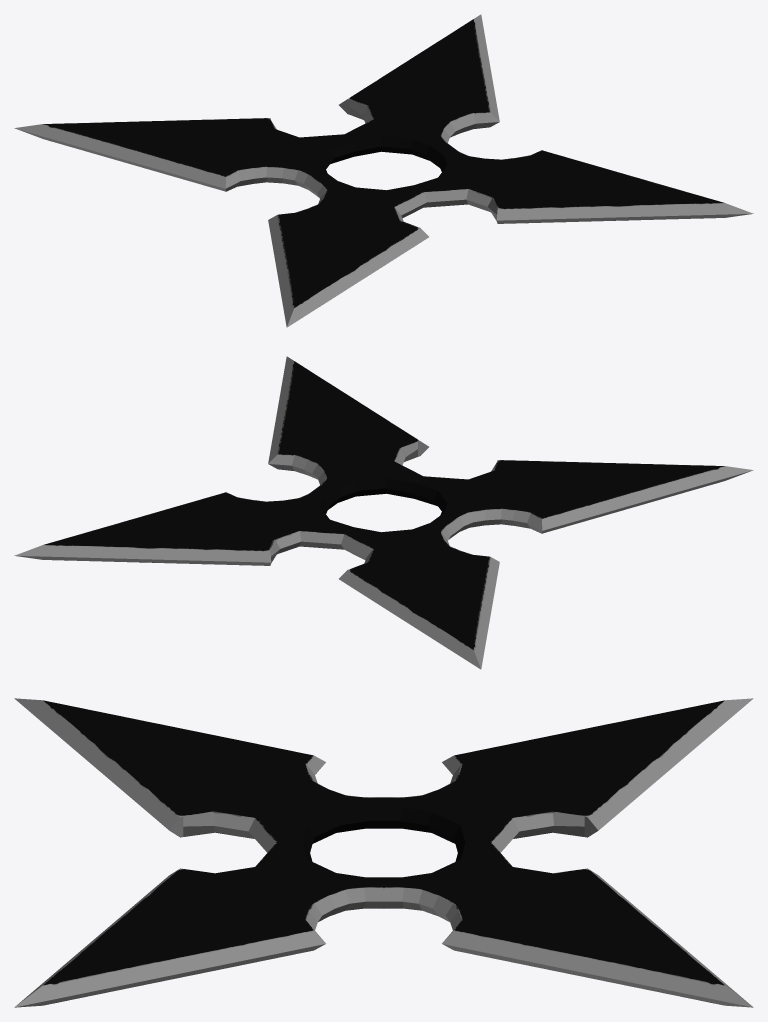
The model's file is Shuriken.fbx.
3 renders of one model, top to bottom at view 1: azimuth 30°, elevation 25°; view 2: azimuth 150°, elevation 25°; view 3: azimuth 270°, elevation 25°, orthographic. The views are drawn at different scales.
Parts seen in each view (by area): view 1: Cube; view 2: Cube; view 3: Cube.
Part boxes in pixels (x1,y1,x2,y2): Cube: [14, 14, 753, 327]; Cube: [14, 356, 753, 669]; Cube: [14, 698, 753, 1007].
Bounding box in the file's own units: 304 × 10 × 308.
1 material, 1 textured.
